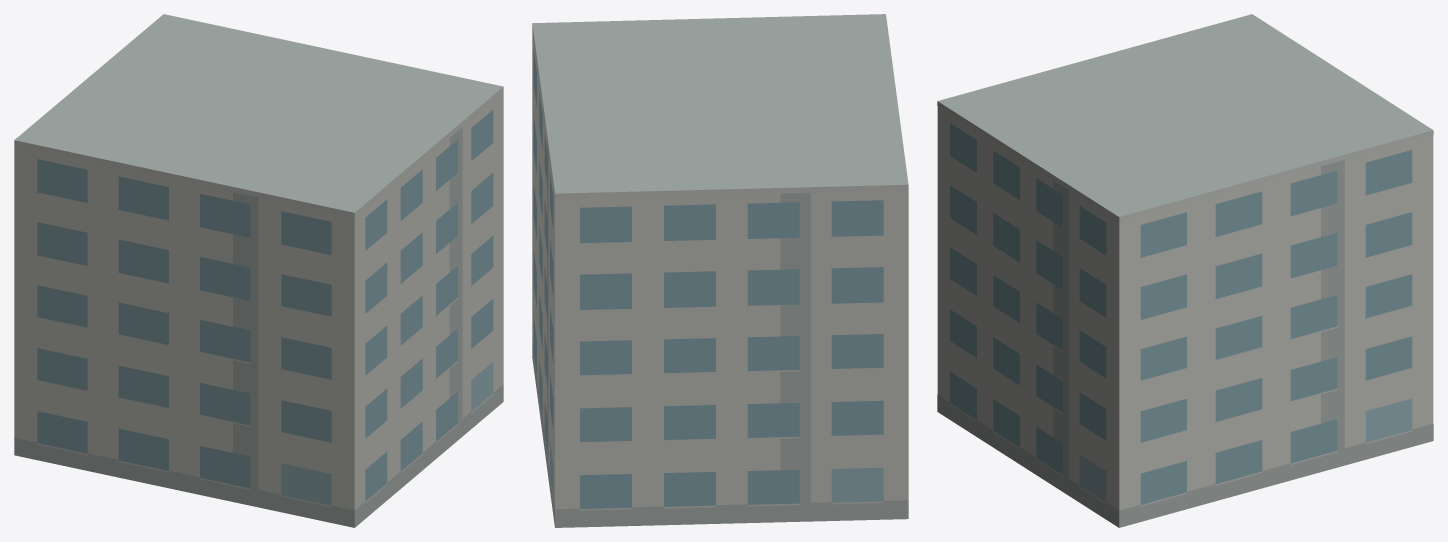
The model's file is survey-upis-32951383.glb.
3 views of the same model, side by side, from view 1: azimuth 30°, elevation 25°; view 2: azimuth 150°, elevation 25°; view 3: azimuth 270°, elevation 25° (orthographic). The views are drawn at different scales.
Parts seen in each view (by area): view 1: survey-upis-32951383.tmp; view 2: survey-upis-32951383.tmp; view 3: survey-upis-32951383.tmp.
Part boxes in pixels (x1,y1,x2,y2): survey-upis-32951383.tmp: (14,14,503,527); survey-upis-32951383.tmp: (532,14,908,527); survey-upis-32951383.tmp: (937,14,1433,527).
Bounding box in the file's own units: 20.33 × 14.5 × 20.98.
